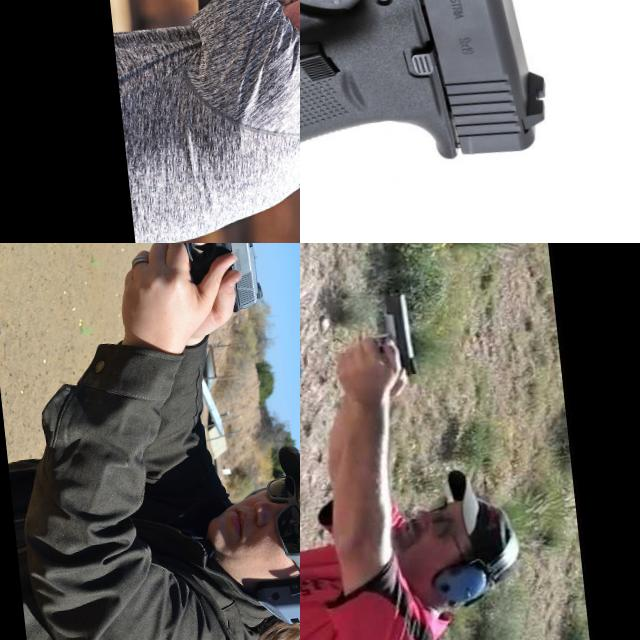handgun: (300, 0, 555, 222), (171, 243, 266, 330), (366, 282, 420, 383), (255, 0, 300, 64)
